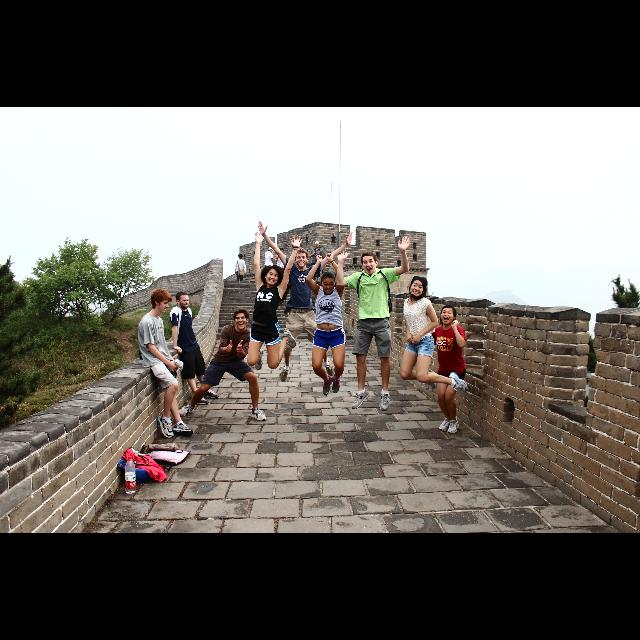head: (150, 288, 170, 314), (360, 252, 378, 276), (409, 278, 426, 300), (321, 272, 337, 294), (440, 306, 456, 326), (265, 266, 281, 286), (234, 308, 248, 329), (295, 250, 309, 268), (175, 292, 189, 310), (314, 242, 320, 248), (268, 247, 274, 253), (280, 248, 284, 254), (238, 254, 242, 260)
person: (256, 220, 354, 384), (338, 236, 412, 412), (176, 307, 268, 423), (136, 288, 194, 440), (399, 275, 471, 395), (247, 231, 303, 371), (304, 253, 348, 397), (170, 290, 220, 406), (426, 305, 468, 435), (308, 240, 324, 286), (274, 248, 290, 292), (263, 246, 281, 284), (235, 253, 248, 293)
